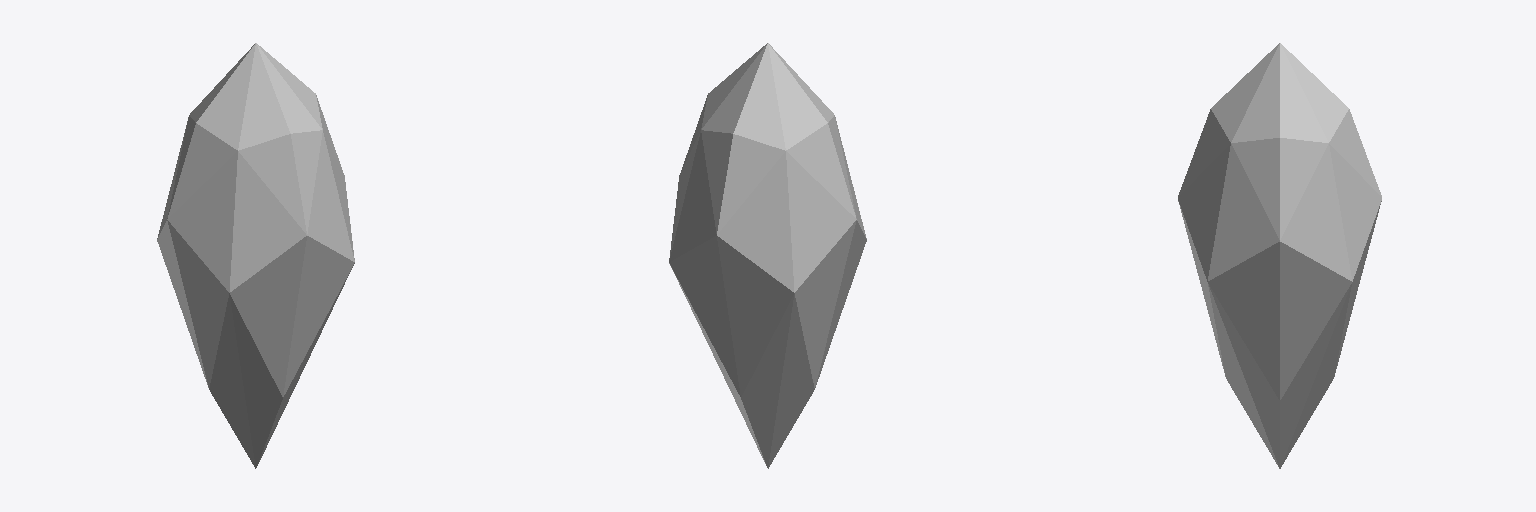
The model's file is EmeraldPiece.obj.
3 renders of one model, left to right at view 1: azimuth 30°, elevation 25°; view 2: azimuth 150°, elevation 25°; view 3: azimuth 270°, elevation 25°, orthographic.
Visible parts, largest first — view 1: object_4BA6D4; view 2: object_4BA6D4; view 3: object_4BA6D4.
Boxes of the visible parts, box(x1,y1,x2,y2) form: object_4BA6D4: box(157, 43, 354, 468); object_4BA6D4: box(669, 43, 866, 468); object_4BA6D4: box(1178, 43, 1381, 468).
Bounding box in the file's own units: 2.96 × 6.8 × 2.96.